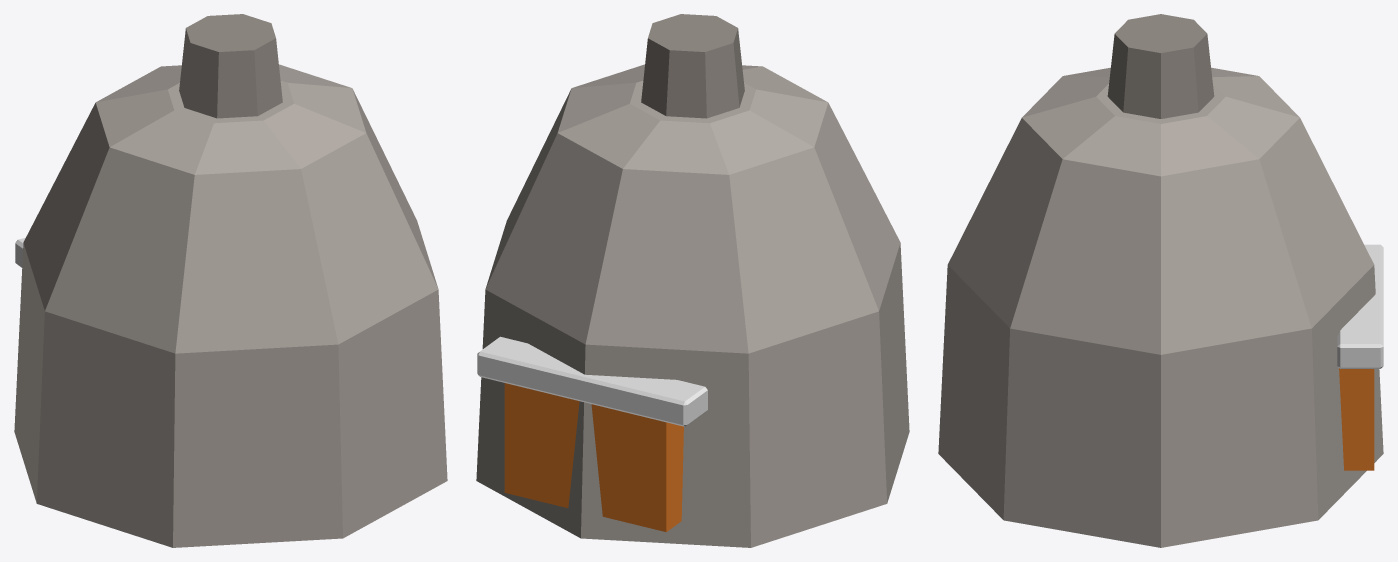
Rendered from furnace_v0.glb.
The picture shows the model from 3 angles, left to right: view 1: azimuth 30°, elevation 25°; view 2: azimuth 150°, elevation 25°; view 3: azimuth 270°, elevation 25°; orthographic projection.
Visible parts, largest first — view 1: furnace_v0; view 2: furnace_v0; view 3: furnace_v0.
Part boxes in pixels (<box>): furnace_v0: <box>14,14,447,547</box>; furnace_v0: <box>476,14,909,547</box>; furnace_v0: <box>938,14,1383,547</box>.
Bounding box in the file's own units: 1.44 × 1.5 × 1.44.
